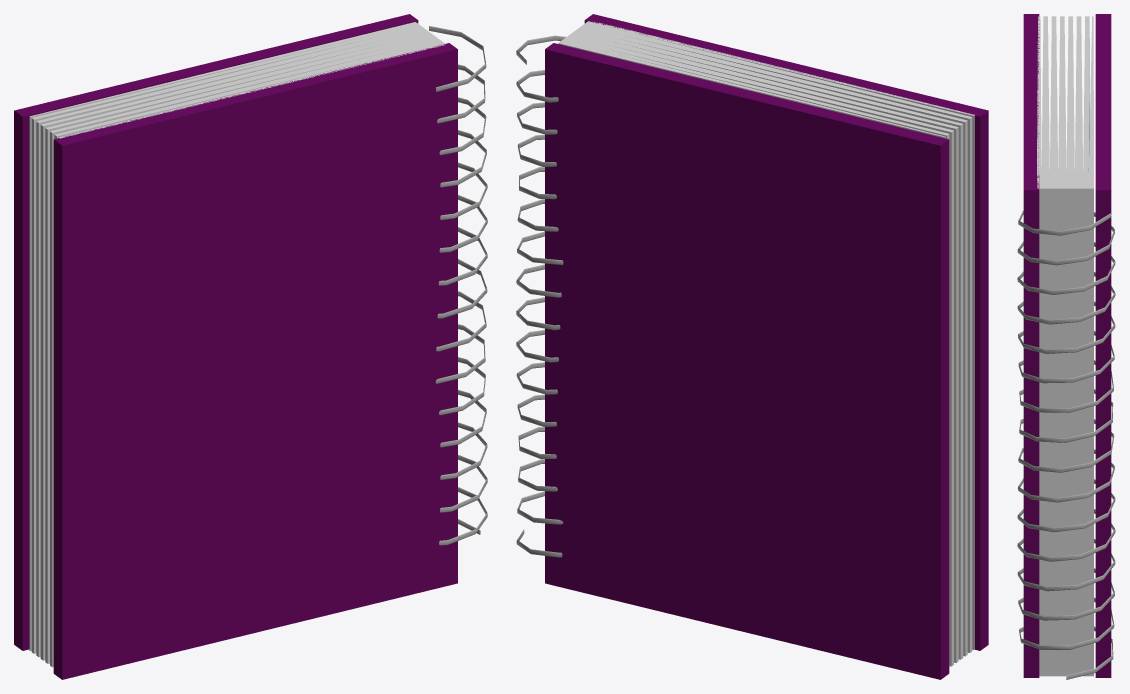
Rendered from notebook02_purple.fbx.
3 views of the same model, side by side, from view 1: azimuth 30°, elevation 25°; view 2: azimuth 150°, elevation 25°; view 3: azimuth 270°, elevation 25° (orthographic). The views are drawn at different scales.
Parts seen in each view (by area): view 1: notebook02_purple; view 2: notebook02_purple; view 3: notebook02_purple.
Part boxes in pixels (x1,y1,x2,y2): notebook02_purple: (14, 14, 487, 679); notebook02_purple: (516, 14, 988, 679); notebook02_purple: (1017, 14, 1115, 679).
Size of the model in its own units: 1.17 by 1.35 by 0.2466.
